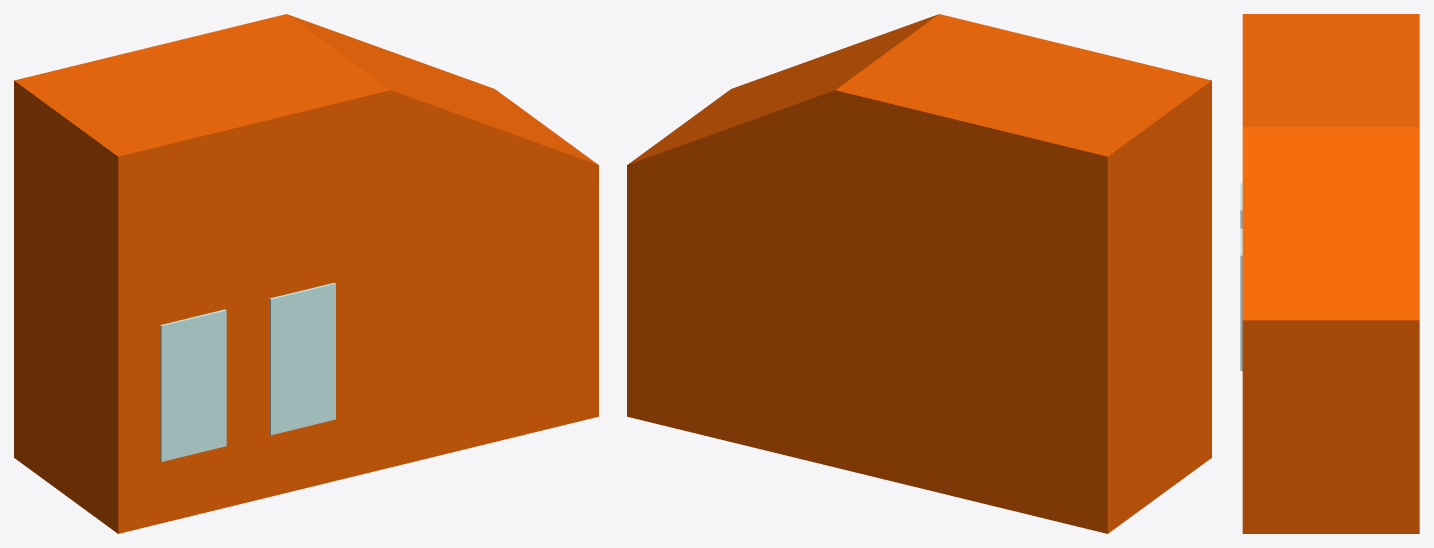
3 views of the same model, side by side, from view 1: azimuth 30°, elevation 25°; view 2: azimuth 150°, elevation 25°; view 3: azimuth 270°, elevation 25° (orthographic). The views are drawn at different scales.
Parts seen in each view (by area): view 1: Mesh_0; view 2: Mesh_0; view 3: Mesh_0.
Boxes of the visible parts, bbox=[...] form: Mesh_0: bbox=[14, 14, 598, 533]; Mesh_0: bbox=[627, 14, 1211, 533]; Mesh_0: bbox=[1240, 14, 1419, 533].
Bounding box in the file's own units: 4 × 3 × 1.52.
